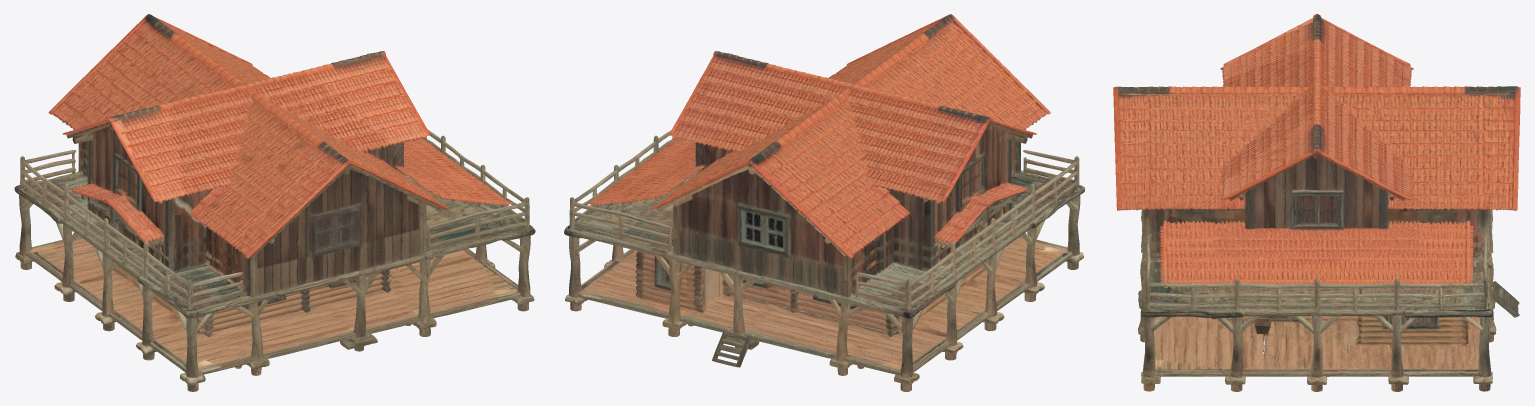
Rendered from bq_rural_house.hd.glb.
The picture shows the model from 3 angles, left to right: view 1: azimuth 30°, elevation 25°; view 2: azimuth 150°, elevation 25°; view 3: azimuth 270°, elevation 25°; orthographic projection.
Visible parts, largest first — view 1: mesh_node; view 2: mesh_node; view 3: mesh_node.
Boxes of the visible parts, x1=… form: mesh_node: x1=14, y1=14, x2=535, y2=391; mesh_node: x1=564, y1=14, x2=1084, y2=391; mesh_node: x1=1113, y1=14, x2=1520, y2=391.
Size of the model in its own units: 1.9 by 1.11 by 1.89.
Materials: 1 (1 with a texture image).
